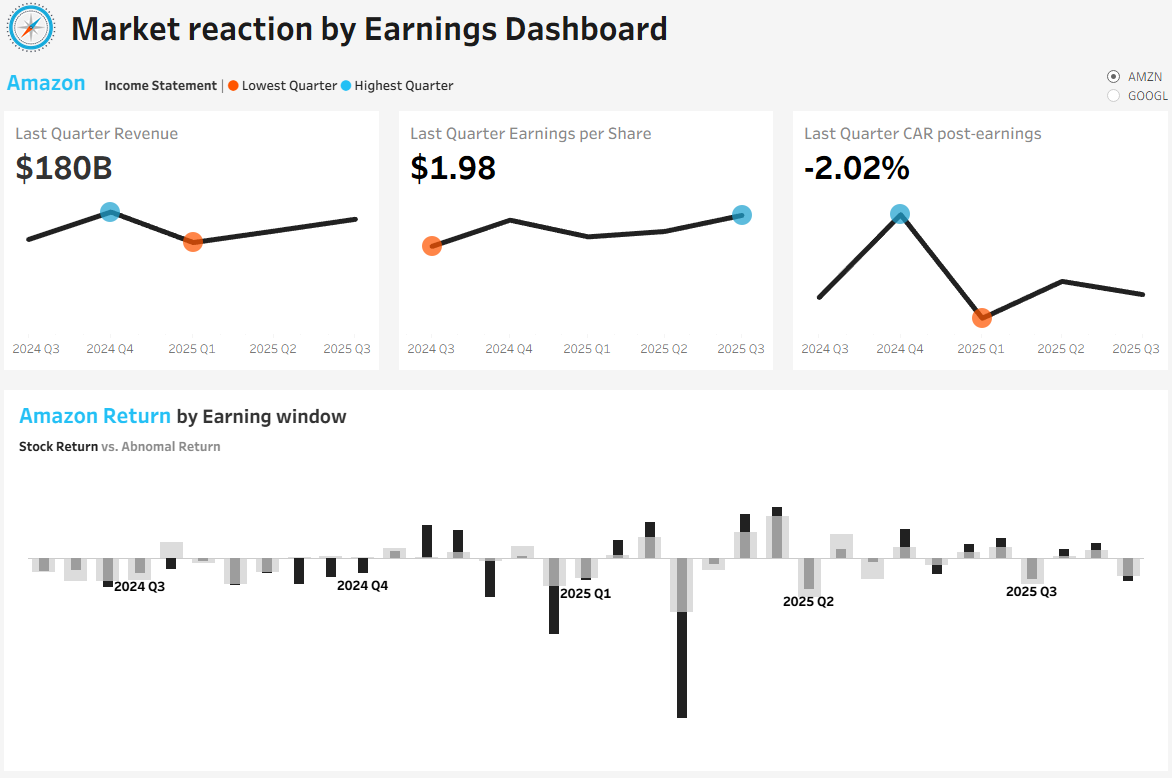

The dashboard page shown, as its layout file describes it:
{"tool":"tableau","page":{"name":"Dashboard 1","canvas":[1200,800],"ordinal":0},"visuals":[{"type":"image","param":"D:/Job/data proj/sales-dashboard-project/images/Icon - Logo.png","box":[8,8,74,60]},{"type":"text","box":[82,8,1110,60]},{"type":"worksheet","title":"title 1","mark":"Automatic","box":[8,68,1184,44]},{"type":"filter","title":"KPI 3","param":"[federated.15lp4ly1hkxbhc1bu24ai0kmwhhd].[none:F1:nk]","box":[1115,75,83,61]},{"type":"worksheet","title":"KPI 1","mark":"Automatic","rows":["F4 (income_statement.csv)","Calculation_1755666613215234"],"cols":["F3 (earnings_summary_tableau.csv)"],"box":[8,112,394.7,279]},{"type":"worksheet","title":"KPI 2","mark":"Automatic","rows":["F5 (income_statement.csv)","Min/Max Revenue (copy)_0395296243855365"],"cols":["F3 (earnings_summary_tableau.csv)"],"box":[402.7,112,394.7,279]},{"type":"worksheet","title":"KPI 3","mark":"Automatic","rows":["F5 (earnings_summary_tableau.csv)","Min/Max Revenue (copy)_0395296249135111"],"cols":["F3 (earnings_summary_tableau.csv)"],"box":[797.3,112,394.7,279]},{"type":"worksheet","title":"title 2","mark":"Automatic","box":[25,408,1150,34]},{"type":"worksheet","title":"legend","mark":"Automatic","box":[25,442,1150,30]},{"type":"worksheet","title":"Return by Earnings","mark":"Bar","rows":["F7","F9"],"cols":["F3"],"box":[25,472,1150,303]}]}

Visuals, with their boxes in screenshot pixels (x1, y1, x2, y2), scaled from the page's 1200x800 canvas onto the 1172x778 screenshot:
image: x1=8, y1=8, x2=80, y2=66
text: x1=80, y1=8, x2=1164, y2=66
"title 1" worksheet: x1=8, y1=66, x2=1164, y2=109
"KPI 3" filter: x1=1089, y1=73, x2=1170, y2=132
"KPI 1" worksheet: x1=8, y1=109, x2=393, y2=380
"KPI 2" worksheet: x1=393, y1=109, x2=779, y2=380
"KPI 3" worksheet: x1=779, y1=109, x2=1164, y2=380
"title 2" worksheet: x1=24, y1=397, x2=1148, y2=430
"legend" worksheet: x1=24, y1=430, x2=1148, y2=459
"Return by Earnings" worksheet (Bar marks): x1=24, y1=459, x2=1148, y2=754
